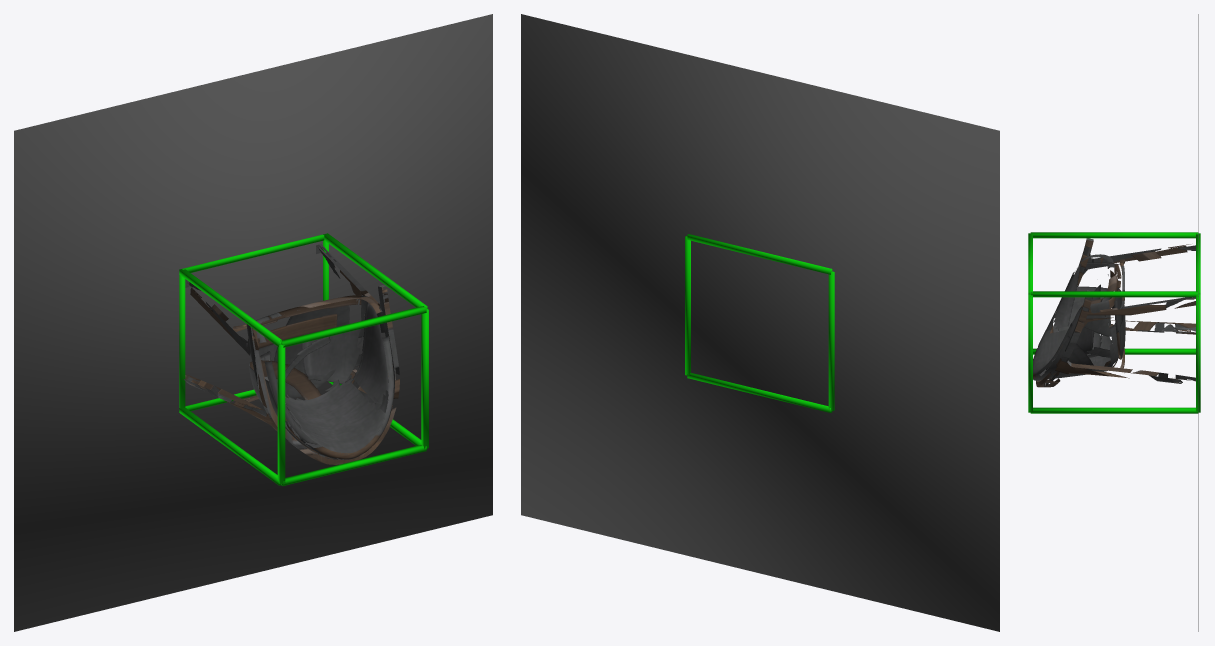
The picture shows the model from 3 angles, left to right: view 1: azimuth 30°, elevation 25°; view 2: azimuth 150°, elevation 25°; view 3: azimuth 270°, elevation 25°; orthographic projection. The views are drawn at different scales.
Bounding box in the file's own units: 2 × 2 × 0.7421.
